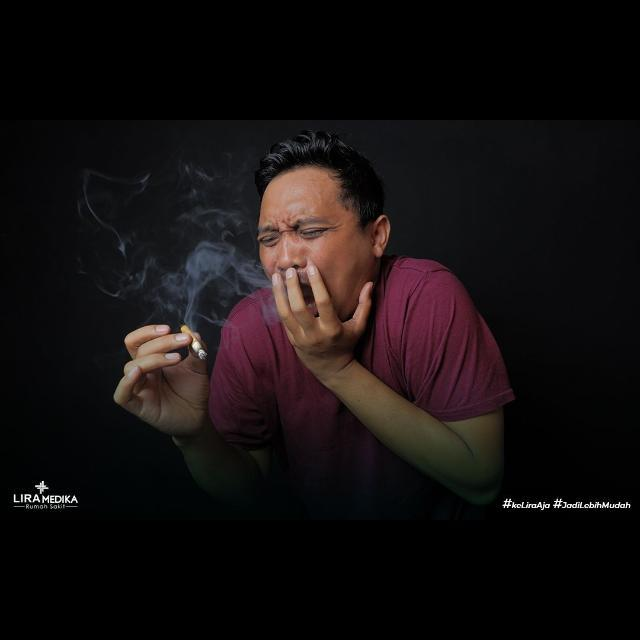rokok: (177, 324, 210, 362)
